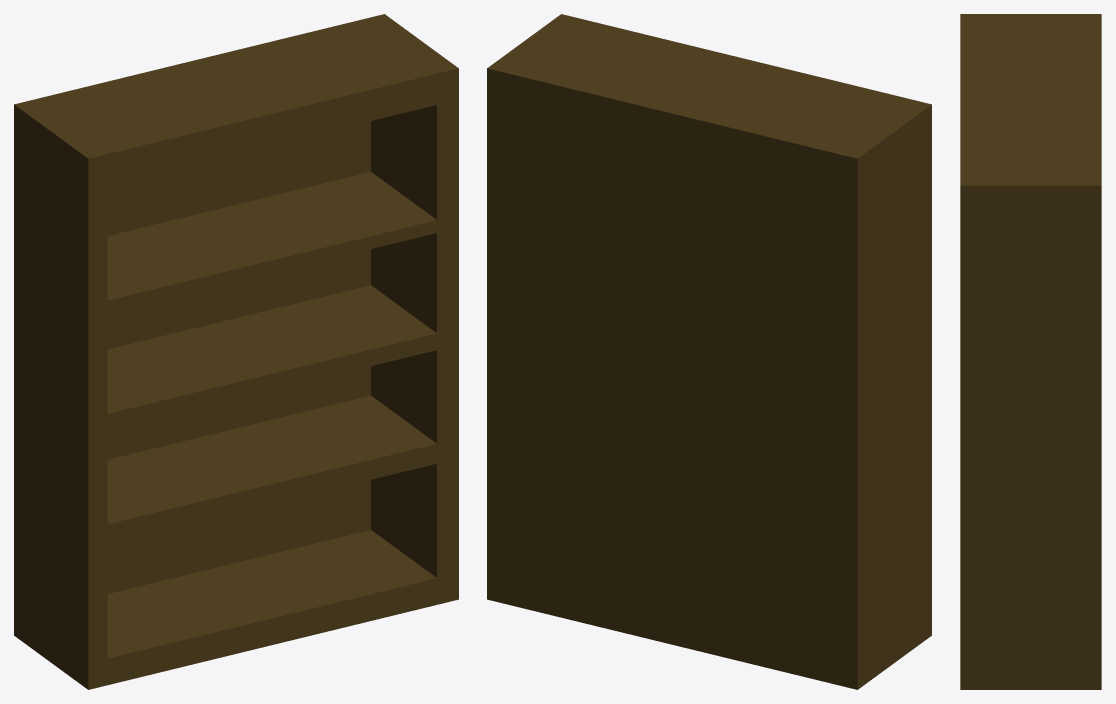
3 views of the same model, side by side, from view 1: azimuth 30°, elevation 25°; view 2: azimuth 150°, elevation 25°; view 3: azimuth 270°, elevation 25° (orthographic). The views are drawn at different scales.
Parts seen in each view (by area): view 1: shelf; view 2: shelf; view 3: shelf.
Boxes of the visible parts, x1,y1,x2,y2 form: shelf: [14, 14, 458, 689]; shelf: [487, 14, 931, 689]; shelf: [960, 14, 1101, 689].
Bounding box in the file's own units: 2.9 × 3.97 × 1.01.
